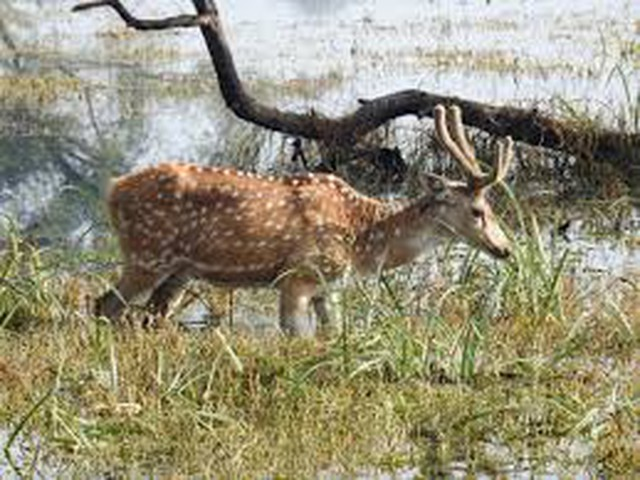deer: (92, 104, 525, 341)
